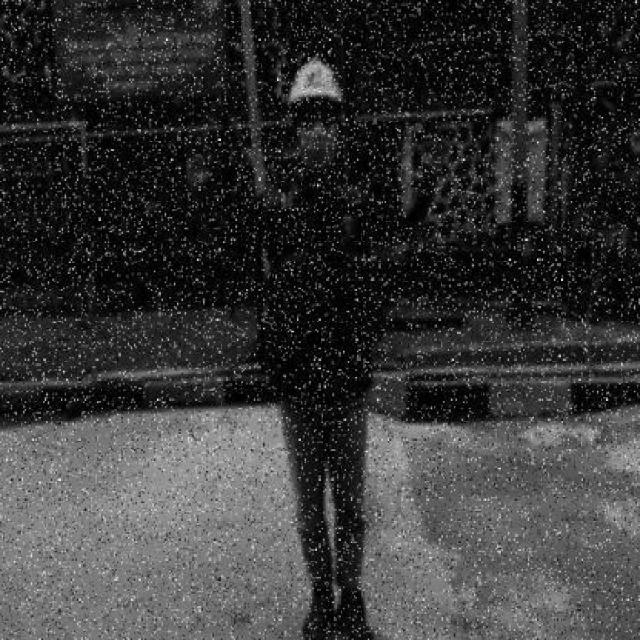Boots: (336, 586, 376, 640), (300, 577, 334, 638)
Helmet: (286, 54, 346, 112)
Mask: (298, 128, 338, 172)
Vest: (262, 226, 386, 346)
